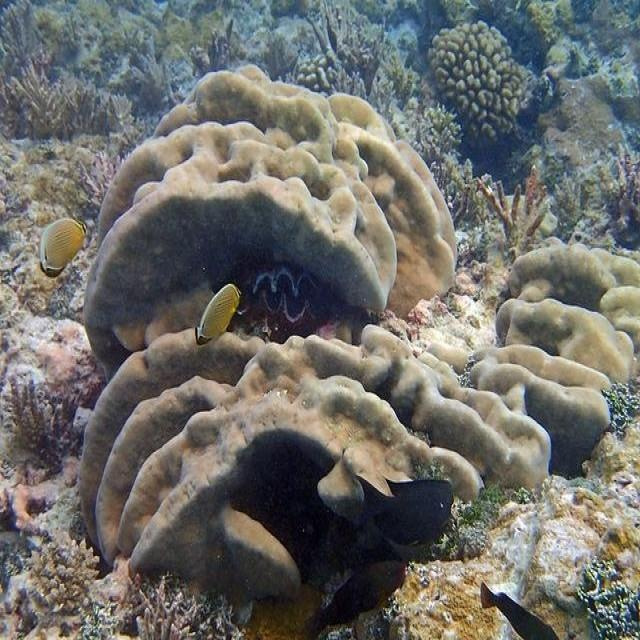fish: (302, 561, 406, 639), (353, 475, 454, 546), (481, 581, 560, 639), (40, 218, 88, 277), (195, 285, 242, 345)
reefs: (79, 62, 639, 601), (428, 19, 533, 149), (26, 541, 97, 615)
